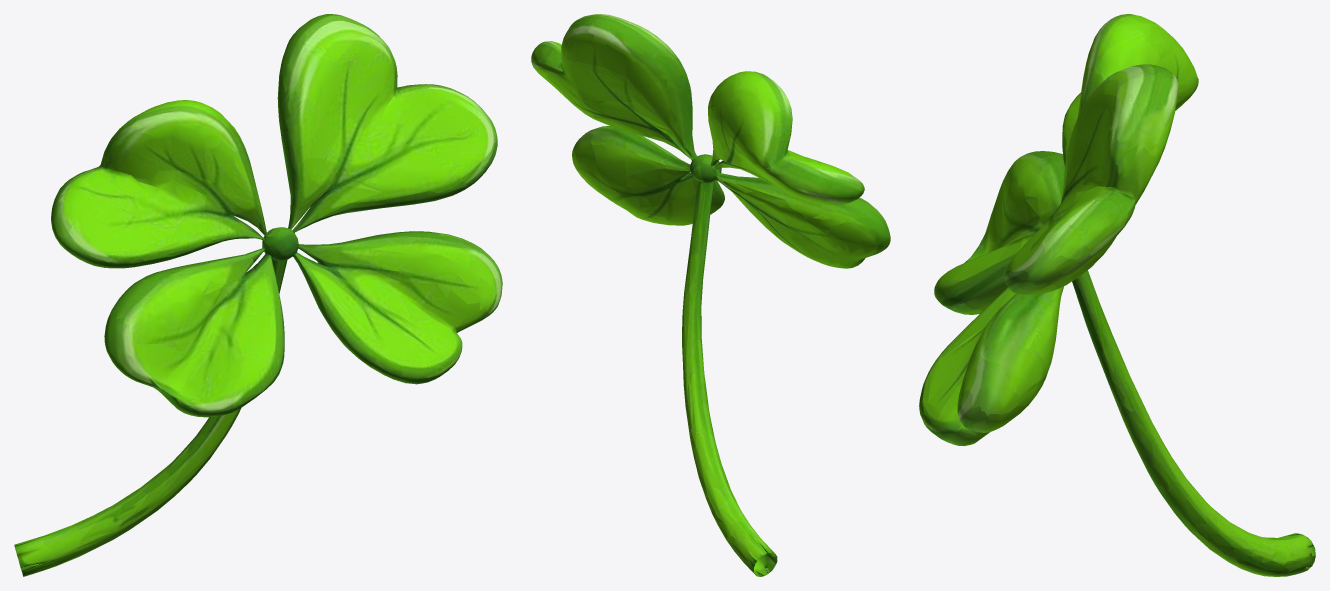
3 renders of one model, left to right at view 1: azimuth 30°, elevation 25°; view 2: azimuth 150°, elevation 25°; view 3: azimuth 270°, elevation 25°, orthographic. The views are drawn at different scales.
Parts seen in each view (by area): view 1: Mesh_0; view 2: Mesh_0; view 3: Mesh_0.
Part boxes in pixels (x1,y1,x2,y2): Mesh_0: (14, 14, 502, 576); Mesh_0: (531, 14, 890, 576); Mesh_0: (919, 14, 1315, 576).
Bounding box in the file's own units: 1.48 × 1.9 × 1.06.
Materials: 1 (1 with a texture image).
